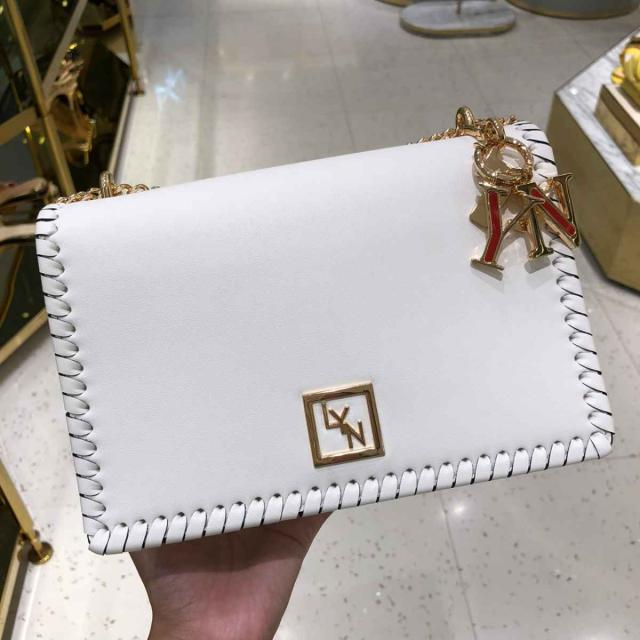handbag: (32, 119, 613, 546)
